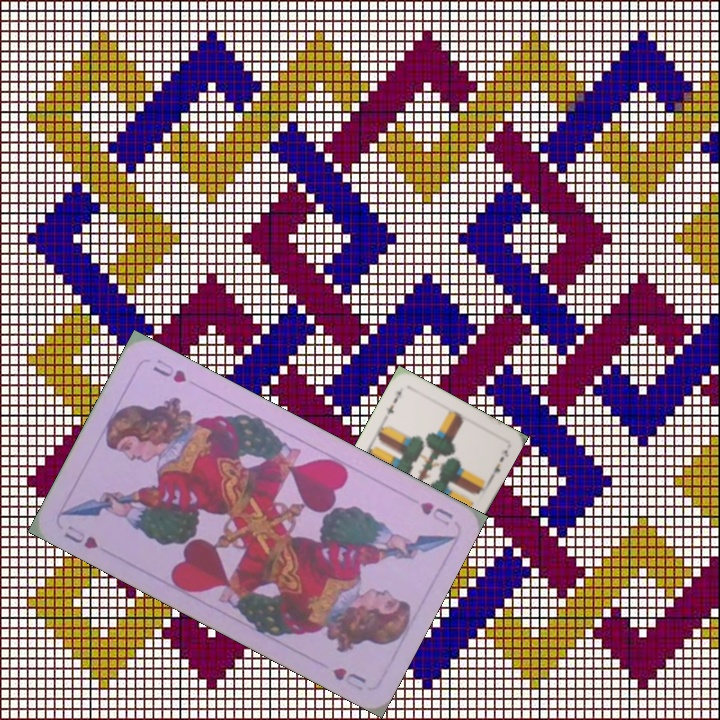E7: (382, 386, 404, 417)
HU: (59, 521, 101, 552), (416, 497, 456, 529)
